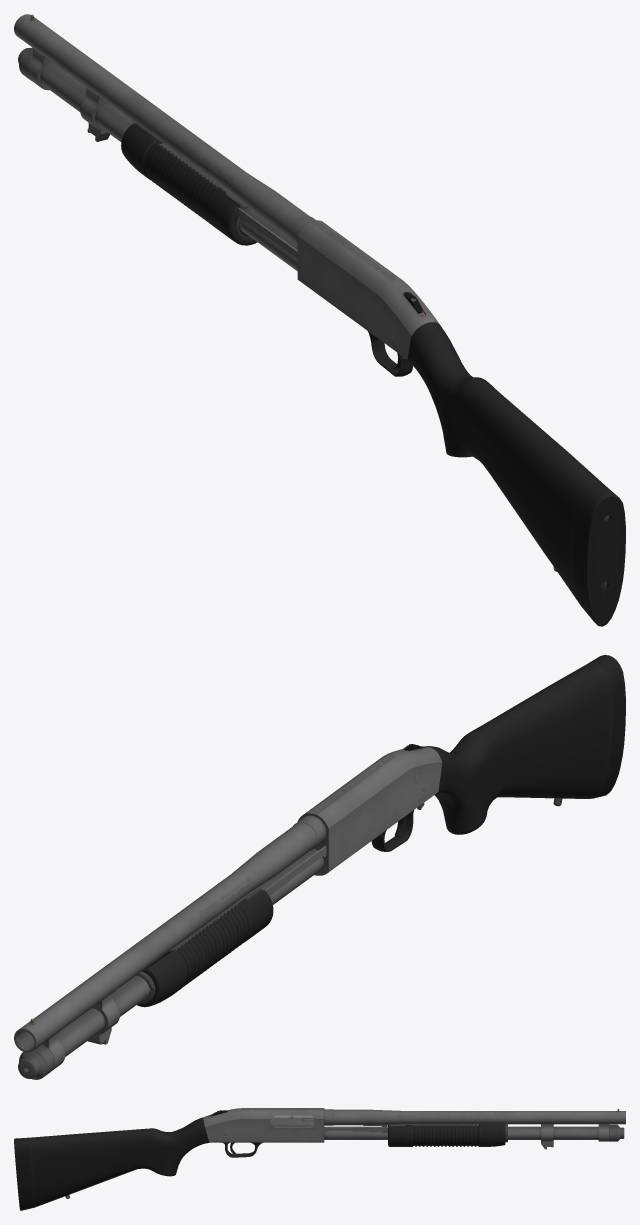
Rendered from shotgun-transformed.glb.
3 views of the same model, one above another, from view 1: azimuth 30°, elevation 25°; view 2: azimuth 150°, elevation 25°; view 3: azimuth 270°, elevation 25° (orthographic). The views are drawn at different scales.
Visible parts, largest first — view 1: m590_receiver_m590_furniture_0, m590_receiver_m590_receiver_0; view 2: m590_receiver_m590_furniture_0, m590_receiver_m590_receiver_0; view 3: m590_receiver_m590_furniture_0, m590_receiver_m590_receiver_0.
Part boxes in pixels (x1=…): m590_receiver_m590_furniture_0: x1=121, y1=123, x2=625, y2=626; m590_receiver_m590_receiver_0: x1=14, y1=14, x2=439, y2=359; m590_receiver_m590_furniture_0: x1=136, y1=655, x2=625, y2=1007; m590_receiver_m590_receiver_0: x1=14, y1=744, x2=442, y2=1079; m590_receiver_m590_furniture_0: x1=14, y1=1117, x2=507, y2=1210; m590_receiver_m590_receiver_0: x1=203, y1=1108, x2=625, y2=1149.
Bounding box in the file's own units: 0.4336 × 1.78 × 9.68.
Materials: 2 (2 with a texture image).
